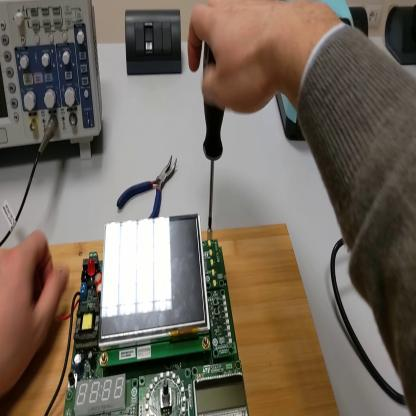hand: (187, 2, 299, 112), (2, 231, 69, 397)
low voltage board: (45, 214, 251, 414)
oscilloscope: (2, 3, 102, 169)
pliers: (114, 155, 181, 219)
screwdriver-: (201, 35, 229, 235)
socket: (384, 8, 416, 67), (349, 5, 370, 40)
welder station: (276, 3, 354, 142)
working area: (1, 225, 339, 416)
